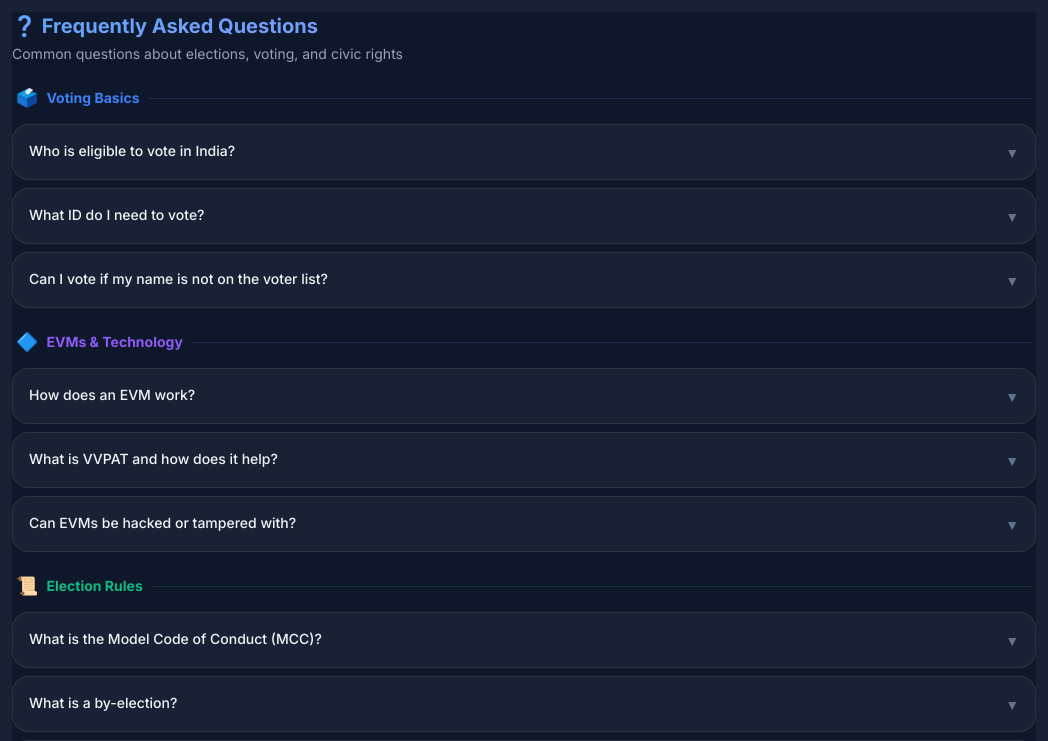
it: FAQSection – Accordion Open/Close › FAQ about EVMs renders correctly
Click the button "How does an EVM work? ▼".
click(112, 394)  # box x1=12 y1=368 x2=1036 y2=424
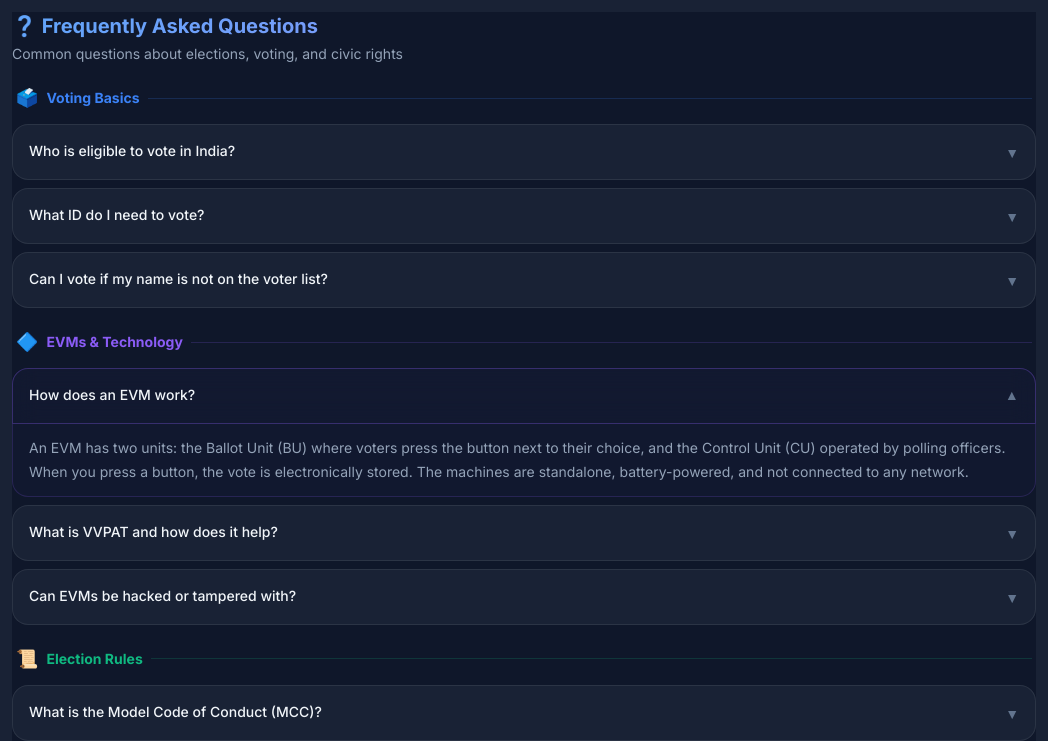
Result: the text "Ballot Unit (BU)" is shown at x1=29 y1=439 x2=1006 y2=480
